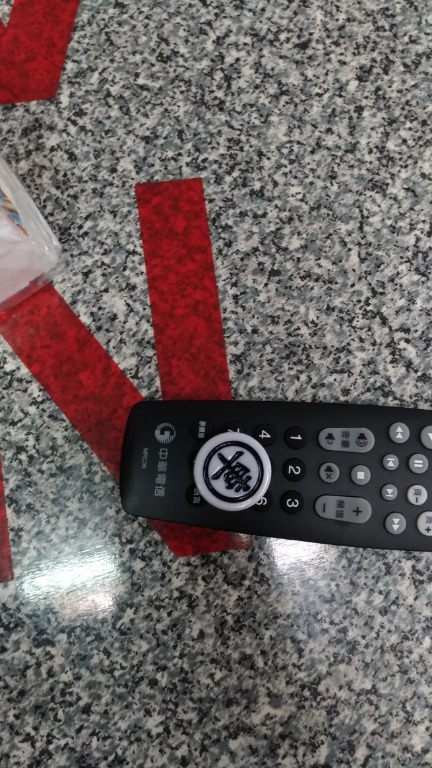b-king: (181, 423, 288, 519)
